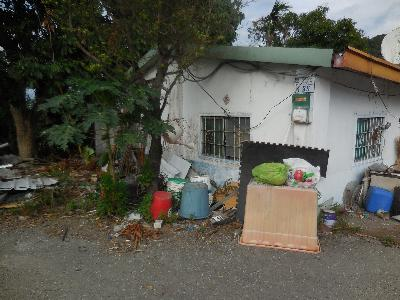bottle: (321, 209, 337, 228)
box: (237, 178, 325, 254)
bucket: (176, 182, 214, 223), (148, 188, 175, 224), (365, 186, 394, 217)
plastic_bag: (283, 155, 322, 190), (246, 159, 289, 187)
